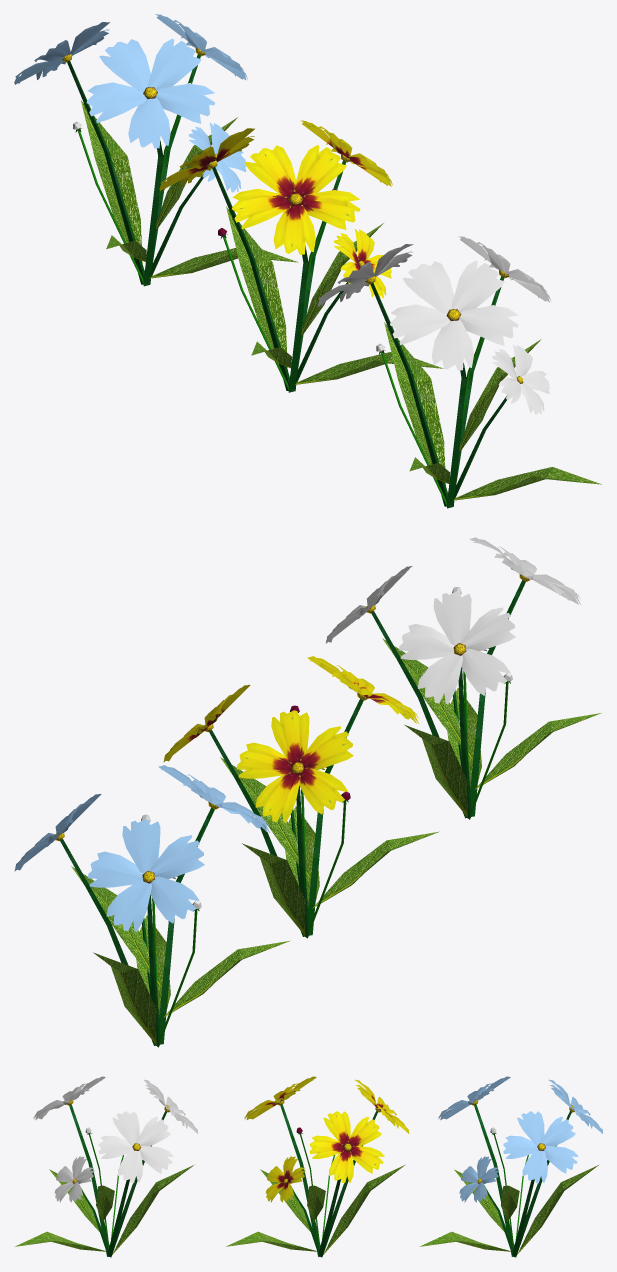
Rendered from plant.fbx.
3 views of the same model, one above another, from view 1: azimuth 30°, elevation 25°; view 2: azimuth 150°, elevation 25°; view 3: azimuth 270°, elevation 25° (orthographic). The views are drawn at different scales.
Parts seen in each view (by area): view 1: Circle.008, Circle.003, Circle.015; view 2: Circle.015, Circle.003, Circle.008; view 3: Circle.003, Circle.015, Circle.008.
Part boxes in pixels (box(x1,y1,x2,y2)): Circle.008: box(317, 236, 601, 508); Circle.003: box(159, 120, 443, 392); Circle.015: box(14, 14, 298, 286); Circle.015: box(14, 765, 290, 1047); Circle.003: box(163, 656, 439, 938); Circle.008: box(325, 537, 601, 819); Circle.003: box(225, 1076, 409, 1257); Circle.015: box(419, 1076, 602, 1257); Circle.008: box(14, 1076, 198, 1257).
Bounding box in the file's own units: 144 × 177 × 555.
